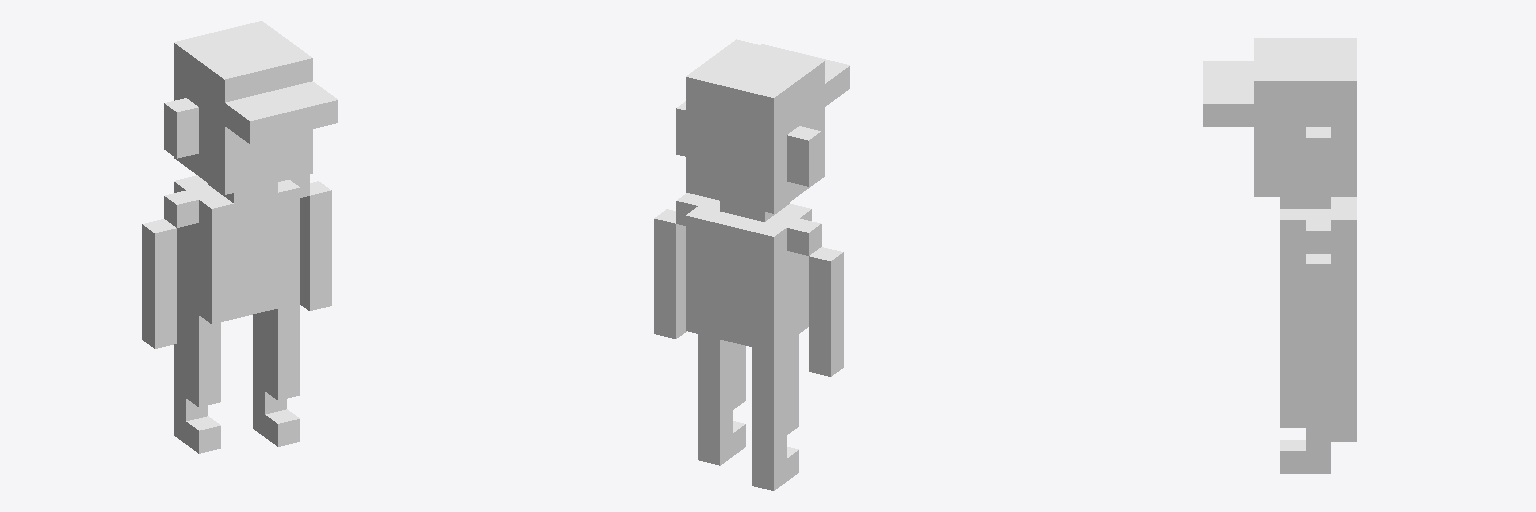
Rendered from machinist1.obj.
The picture shows the model from 3 angles: view 1: azimuth 30°, elevation 25°; view 2: azimuth 150°, elevation 25°; view 3: azimuth 270°, elevation 25°; orthographic projection.
Size of the model in its own units: 8 by 17 by 6.